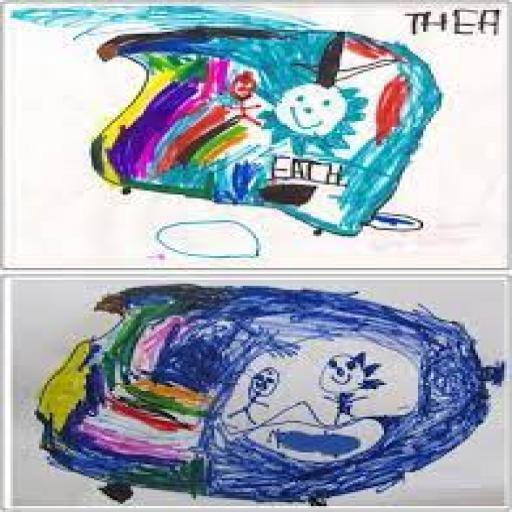person: (294, 351, 393, 449), (228, 362, 290, 426), (222, 67, 266, 133)
